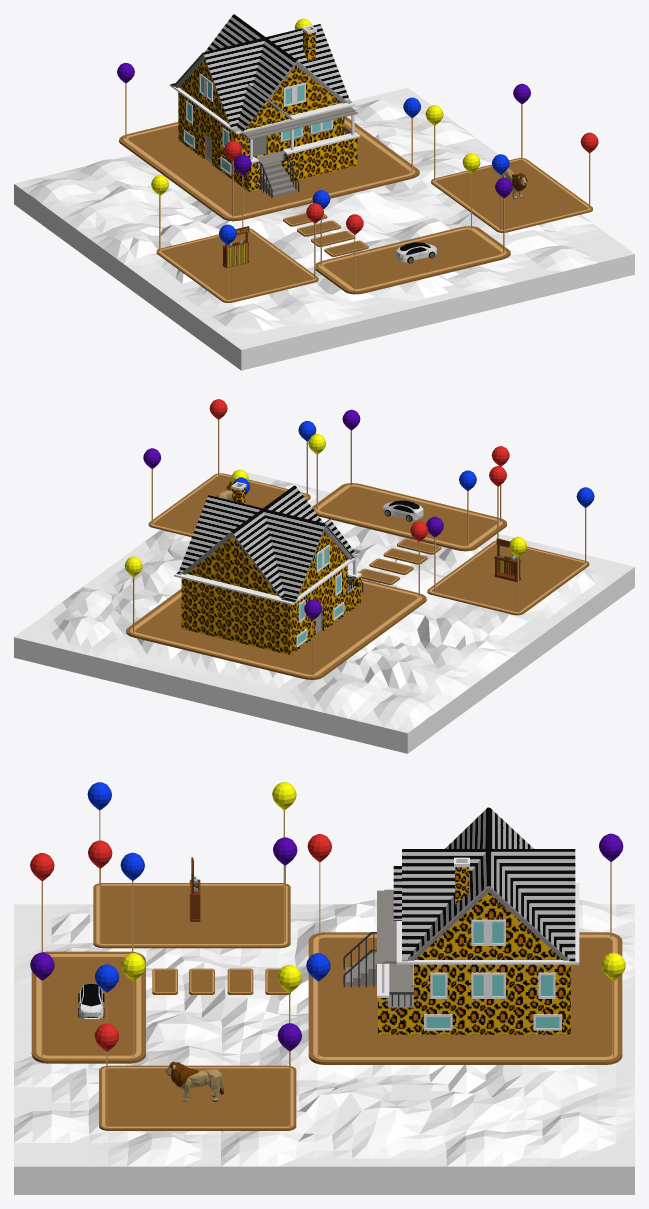
3 views of the same model, one above another, from view 1: azimuth 30°, elevation 25°; view 2: azimuth 150°, elevation 25°; view 3: azimuth 270°, elevation 25° (orthographic). The views are drawn at different scales.
Parts seen in each view (by area): view 1: Cube.013, Cube.637, OBJRANDOM_LEMONADE_STAND, VEHICLES_TESLA; view 2: Cube.013, Cube.637, OBJRANDOM_LEMONADE_STAND, VEHICLES_TESLA; view 3: Cube.013, Cube.637, ANIMAL_LEON, VEHICLES_TESLA, OBJRANDOM_LEMONADE_STAND.
Part boxes in pixels (x1,y1,x2,y2): Cube.013: [14, 18, 634, 370]; Cube.637: [169, 14, 360, 198]; OBJRANDOM_LEMONADE_STAND: [222, 226, 249, 268]; VEHICLES_TESLA: [396, 242, 437, 263]; Cube.013: [14, 399, 634, 753]; Cube.637: [174, 482, 363, 655]; OBJRANDOM_LEMONADE_STAND: [494, 538, 520, 581]; VEHICLES_TESLA: [382, 500, 423, 521]; Cube.013: [14, 782, 634, 1194]; Cube.637: [343, 807, 579, 1034]; ANIMAL_LEON: [165, 1061, 223, 1101]; VEHICLES_TESLA: [78, 983, 104, 1019]; OBJRANDOM_LEMONADE_STAND: [189, 857, 200, 921].
Bounding box in the file's own units: 4000 × 1687 × 4000.
36 materials, 2 textured.
